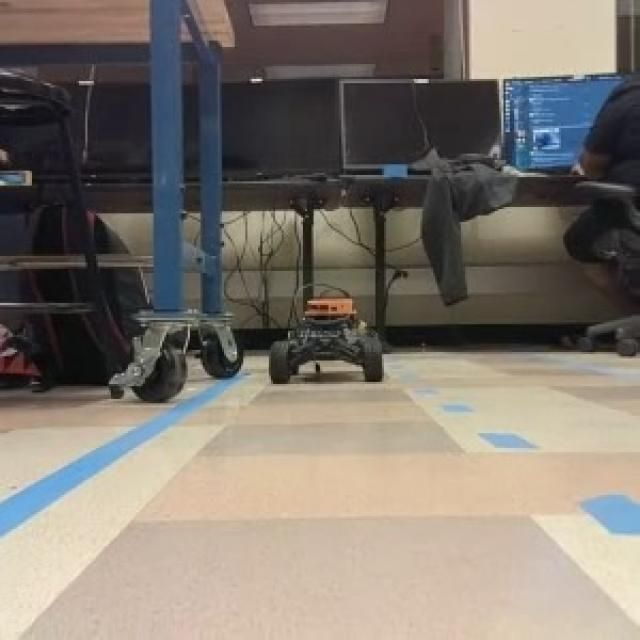obstacle: (268, 296, 385, 386)
